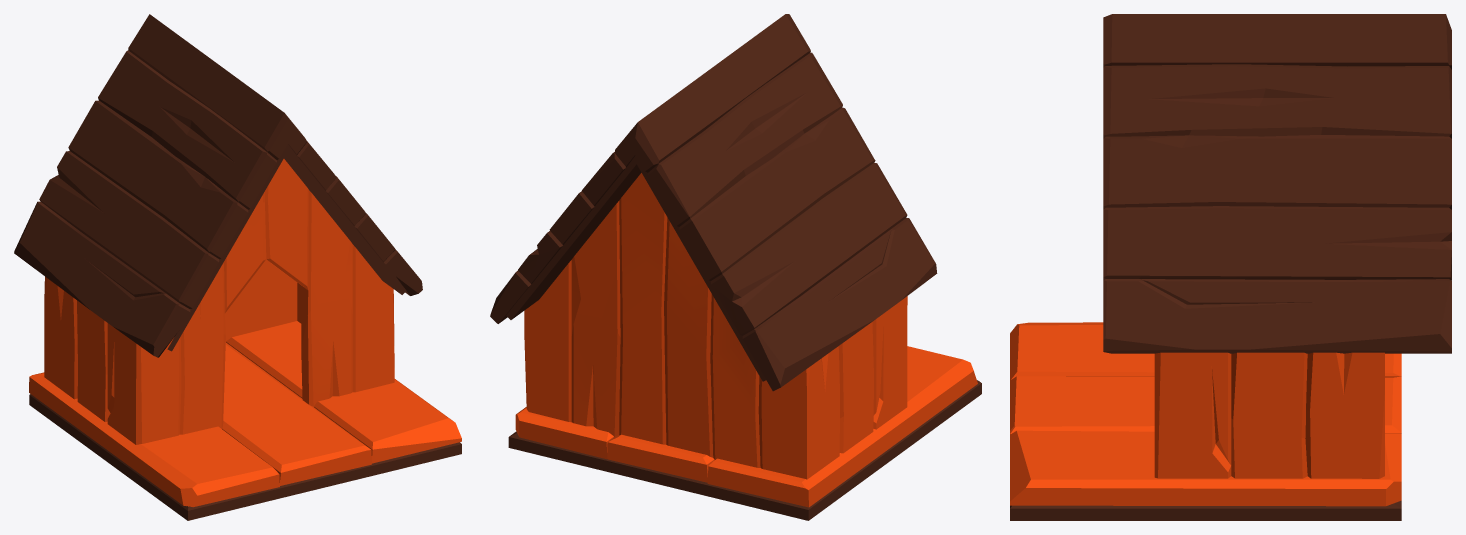
Rendered from Dog_House.fbx.
The picture shows the model from 3 angles, left to right: view 1: azimuth 30°, elevation 25°; view 2: azimuth 150°, elevation 25°; view 3: azimuth 270°, elevation 25°; orthographic projection. The views are drawn at different scales.
Visible parts, largest first — view 1: Dog_House; view 2: Dog_House; view 3: Dog_House.
Boxes of the visible parts, bbox=[...] form: Dog_House: bbox=[14, 14, 461, 520]; Dog_House: bbox=[490, 14, 981, 520]; Dog_House: bbox=[1010, 14, 1451, 520].
Bounding box in the file's own units: 34.55 × 41.04 × 38.65.
